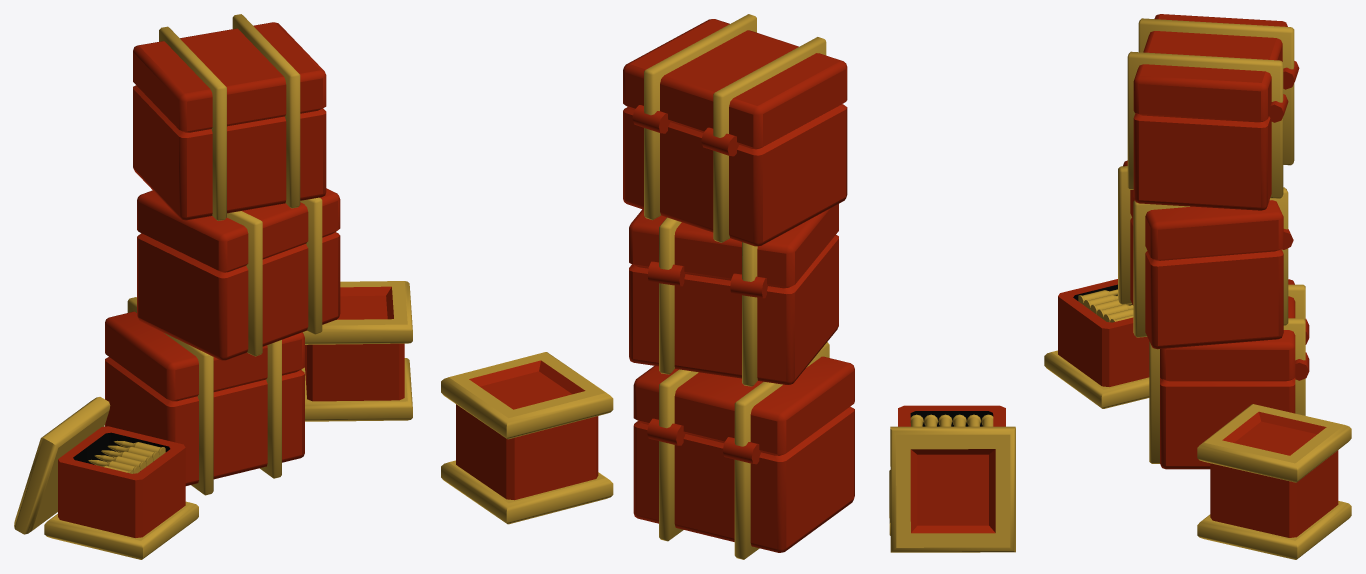
Rendered from Bullet Factory Inside Fractured.fbx.
The picture shows the model from 3 angles, left to right: view 1: azimuth 30°, elevation 25°; view 2: azimuth 150°, elevation 25°; view 3: azimuth 270°, elevation 25°; orthographic projection. The views are drawn at different scales.
Visible parts, largest first — view 1: Bullet Factory Inside Fracture, Bullet Factory Inside Fracture.001, Bullet Factory Inside Fracture.002, Bullet Factory Inside Fracture.003, Bullet Factory Inside Fracture.004; view 2: Bullet Factory Inside Fracture, Bullet Factory Inside Fracture.002, Bullet Factory Inside Fracture.001, Bullet Factory Inside Fracture.004, Bullet Factory Inside Fracture.003; view 3: Bullet Factory Inside Fracture, Bullet Factory Inside Fracture.001, Bullet Factory Inside Fracture.004, Bullet Factory Inside Fracture.002, Bullet Factory Inside Fracture.003.
Part boxes in pixels (<box>): Bullet Factory Inside Fracture: <box>133,14,326,220</box>; Bullet Factory Inside Fracture.001: <box>137,188,340,360</box>; Bullet Factory Inside Fracture.002: <box>105,297,304,495</box>; Bullet Factory Inside Fracture.003: <box>14,397,198,559</box>; Bullet Factory Inside Fracture.004: <box>301,281,412,421</box>; Bullet Factory Inside Fracture: <box>623,14,847,246</box>; Bullet Factory Inside Fracture.002: <box>633,342,854,559</box>; Bullet Factory Inside Fracture.001: <box>629,204,838,386</box>; Bullet Factory Inside Fracture.004: <box>441,352,613,524</box>; Bullet Factory Inside Fracture.003: <box>889,405,1015,552</box>; Bullet Factory Inside Fracture: <box>1127,14,1299,210</box>; Bullet Factory Inside Fracture.001: <box>1118,160,1293,349</box>; Bullet Factory Inside Fracture.004: <box>1197,404,1351,559</box>; Bullet Factory Inside Fracture.002: <box>1149,279,1309,469</box>; Bullet Factory Inside Fracture.003: <box>1044,279,1149,408</box>.
Size of the model in its own units: 583 by 500 by 337.
